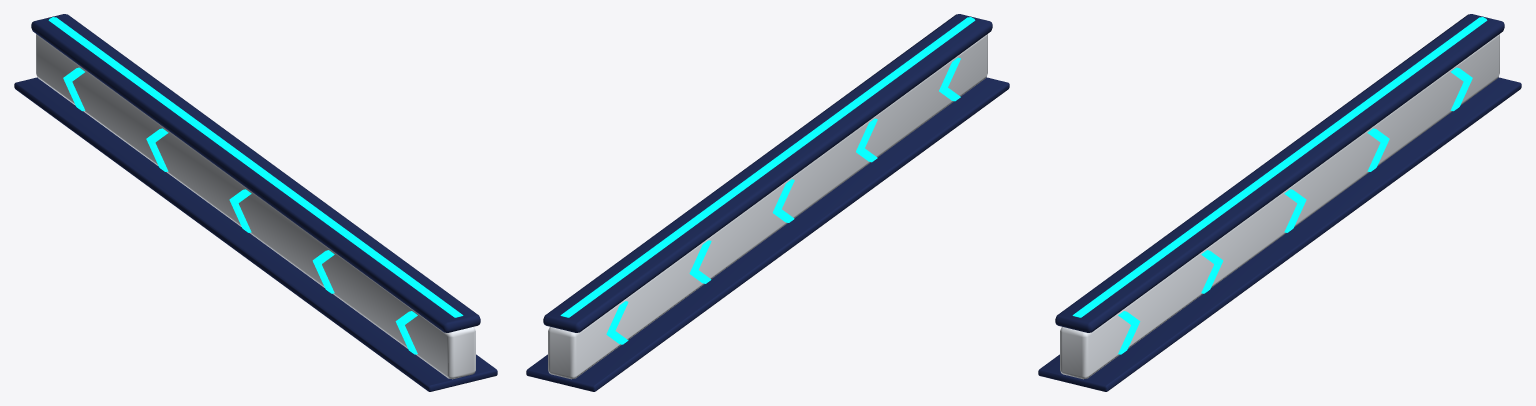
The model's file is RaceTrackBarrier.fbx.
The picture shows the model from 3 angles, left to right: view 1: azimuth 30°, elevation 25°; view 2: azimuth 150°, elevation 25°; view 3: azimuth 330°, elevation 25°; orthographic projection.
Parts seen in each view (by area): view 1: RaceTrackBarrier__Trim, RaceTrackBarrier__Base, RaceTrackBarrier__Accent; view 2: RaceTrackBarrier__Trim, RaceTrackBarrier__Base, RaceTrackBarrier__Accent; view 3: RaceTrackBarrier__Trim, RaceTrackBarrier__Base, RaceTrackBarrier__Accent.
Boxes of the visible parts, x1,y1,x2,y2 form: RaceTrackBarrier__Trim: (14, 14, 497, 391); RaceTrackBarrier__Base: (36, 34, 475, 379); RaceTrackBarrier__Accent: (48, 17, 463, 354); RaceTrackBarrier__Trim: (526, 14, 1009, 391); RaceTrackBarrier__Base: (548, 34, 987, 379); RaceTrackBarrier__Accent: (560, 17, 975, 344); RaceTrackBarrier__Trim: (1038, 14, 1521, 391); RaceTrackBarrier__Base: (1060, 34, 1499, 379); RaceTrackBarrier__Accent: (1072, 17, 1487, 354).
Size of the model in its own units: 5.4 by 4.98 by 56.
